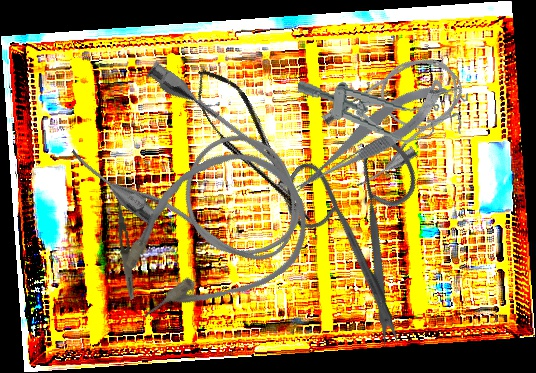Cannula: (63, 52, 329, 297), (90, 128, 330, 348), (313, 39, 481, 194)
Dressing Forceps: (110, 183, 138, 301)
Iris Scissors: (240, 103, 497, 356)
Micro Scissor: (183, 57, 322, 240), (278, 71, 460, 202)
Speculum: (292, 67, 470, 150)
